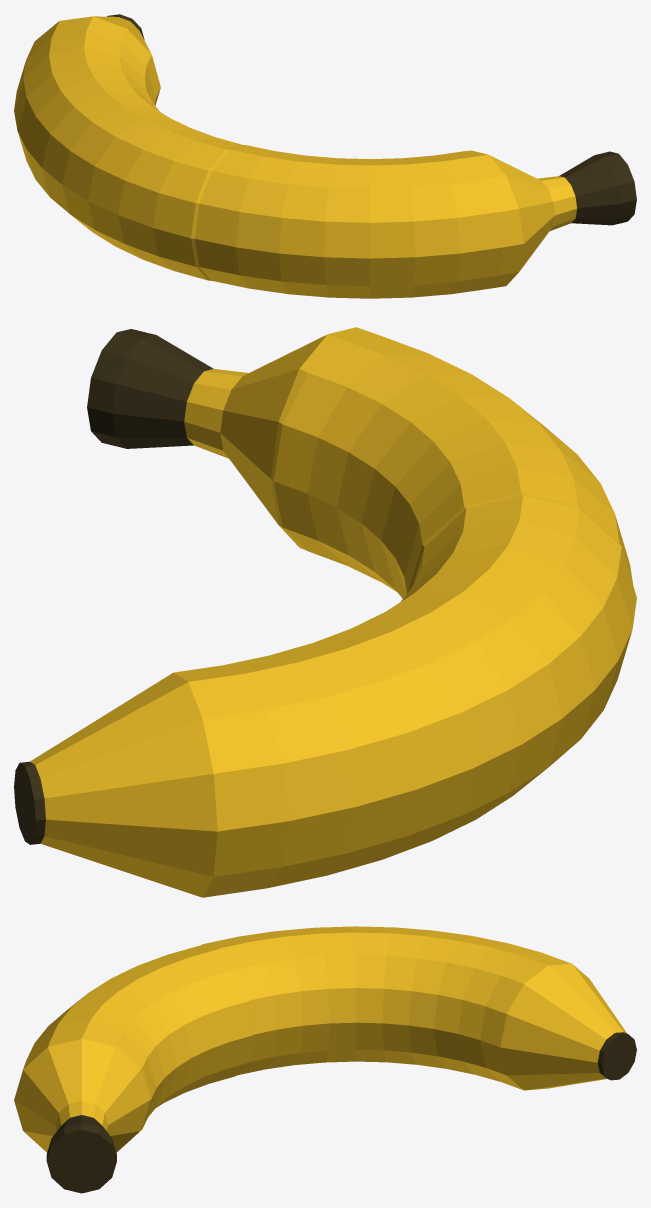
Rendered from banana.fbx.
The picture shows the model from 3 angles, top to bottom: view 1: azimuth 30°, elevation 25°; view 2: azimuth 150°, elevation 25°; view 3: azimuth 270°, elevation 25°; orthographic projection. The views are drawn at different scales.
Visible parts, largest first — view 1: banana; view 2: banana; view 3: banana.
Boxes of the visible parts, bbox=[...] form: banana: bbox=[14, 14, 636, 298]; banana: bbox=[14, 327, 636, 897]; banana: bbox=[14, 926, 636, 1193].
Bounding box in the file's own units: 171 × 50 × 230.
